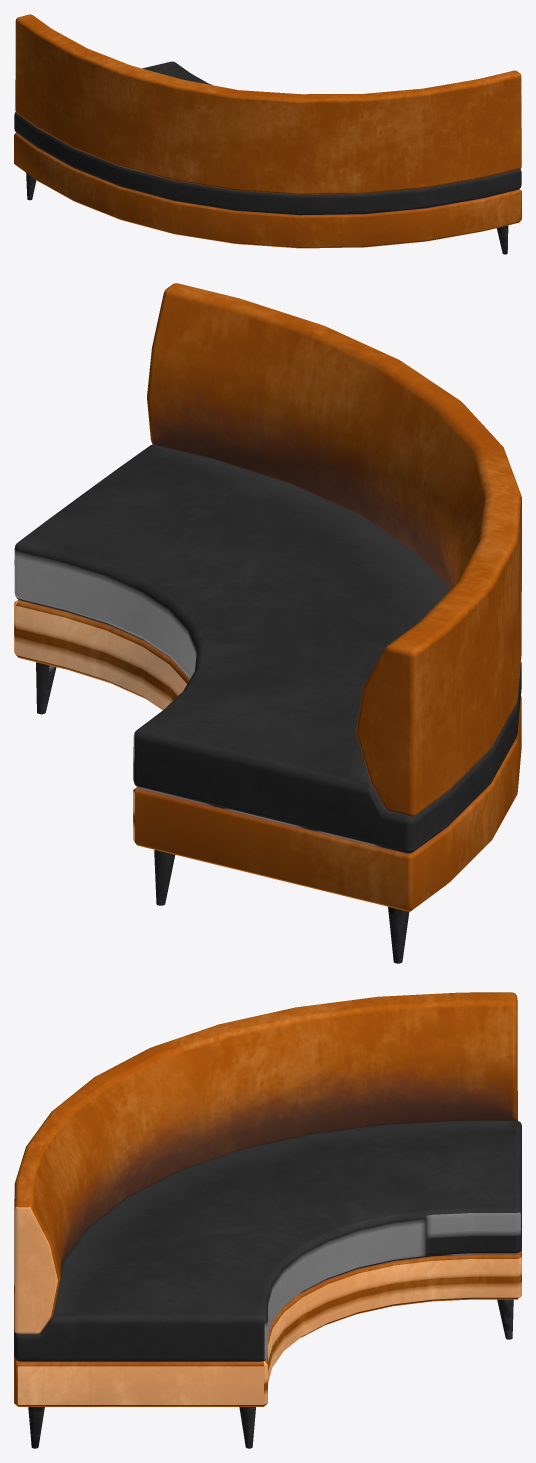
Rendered from SM_OrangeFurniture_001.fbx.
The picture shows the model from 3 angles, top to bottom: view 1: azimuth 30°, elevation 25°; view 2: azimuth 150°, elevation 25°; view 3: azimuth 270°, elevation 25°; orthographic projection. The views are drawn at different scales.
Visible parts, largest first — view 1: SM_OrangeFurniture_001_LOD0; view 2: SM_OrangeFurniture_001_LOD0; view 3: SM_OrangeFurniture_001_LOD0.
Part boxes in pixels (x1=…): SM_OrangeFurniture_001_LOD0: x1=14, y1=14, x2=521, y2=254; SM_OrangeFurniture_001_LOD0: x1=14, y1=283, x2=521, y2=963; SM_OrangeFurniture_001_LOD0: x1=14, y1=992, x2=521, y2=1448.
Bounding box in the file's own units: 140 × 140 × 75.6.
Materials: 1 (1 with a texture image).
